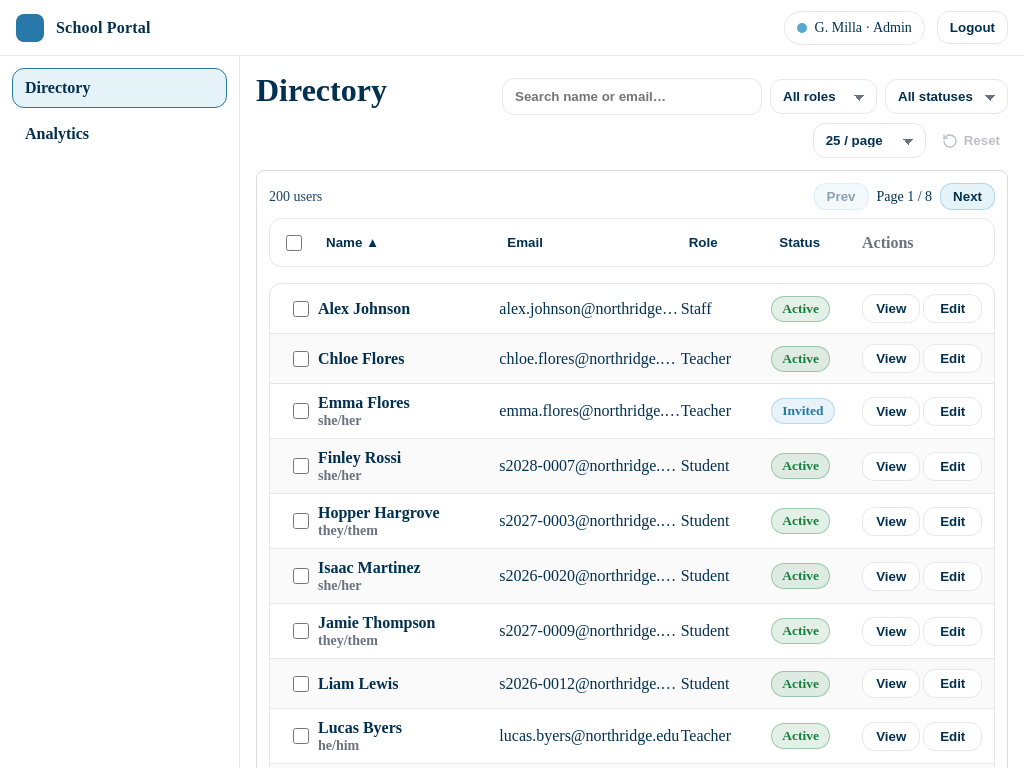
Test: Directory: admin view and edit › navigates directory → user details → edit and saves
Expected: the heading "Directory" is shown, [256,72,387,109]
Step 1. Click the button "View" in the row of "Alex Johnson" → coordinates (892, 309), box [862,294,921,323]
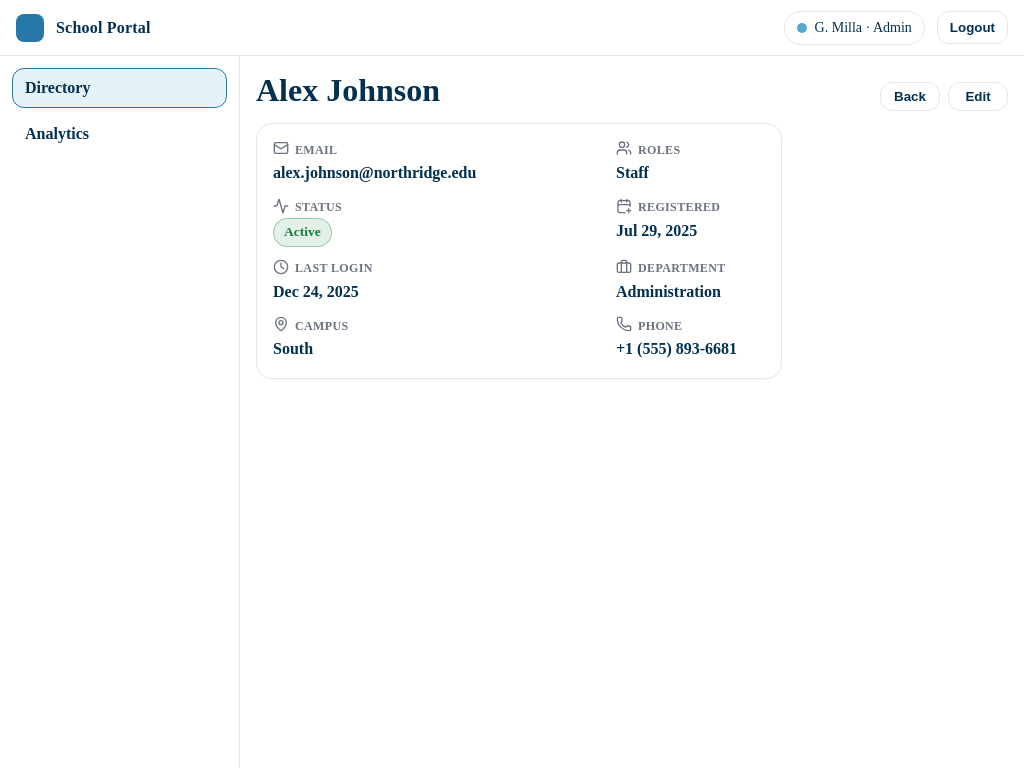
Step 2. Click the button "Edit" → coordinates (978, 97), box [948,82,1008,111]
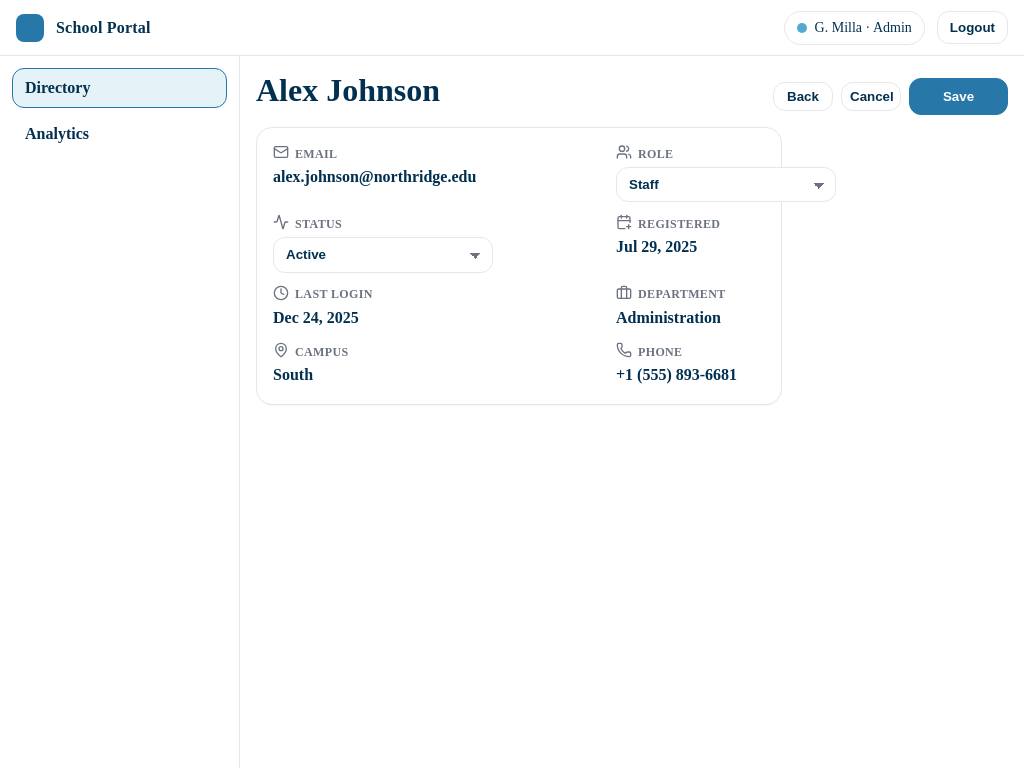
Step 3. Select "Teacher" in the dropdown named "Role" → coordinates (726, 185), box [616,167,836,202]
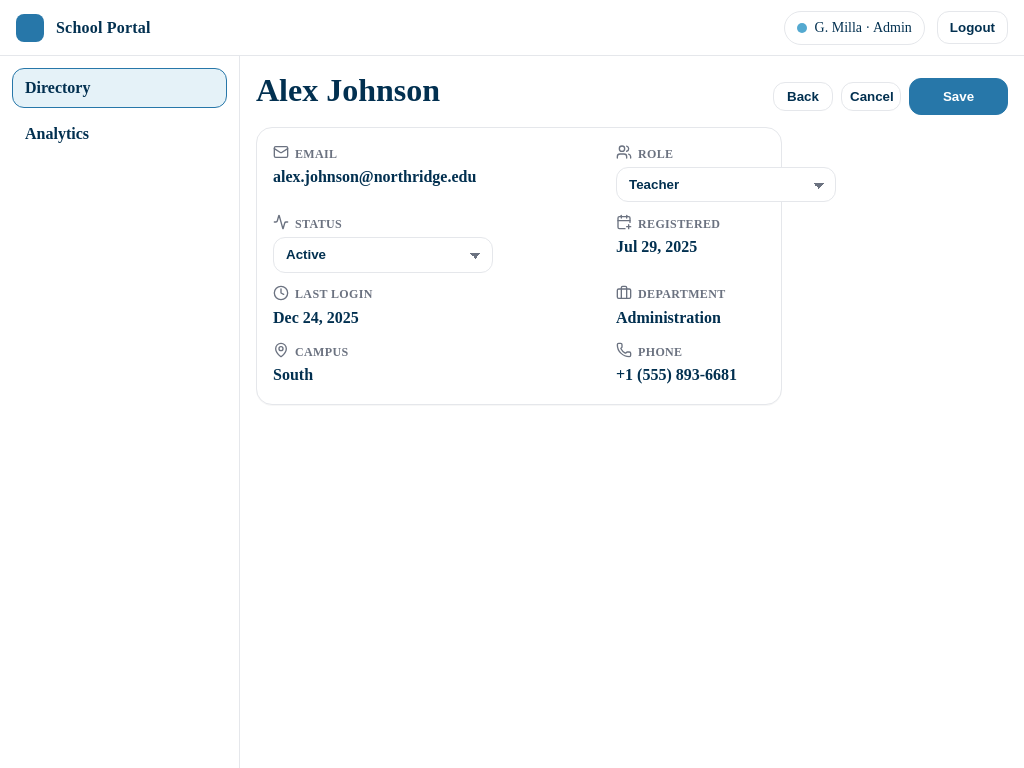
Step 4. Select "Suspended" in the dropdown named "Status" → coordinates (383, 255), box [273,237,493,272]
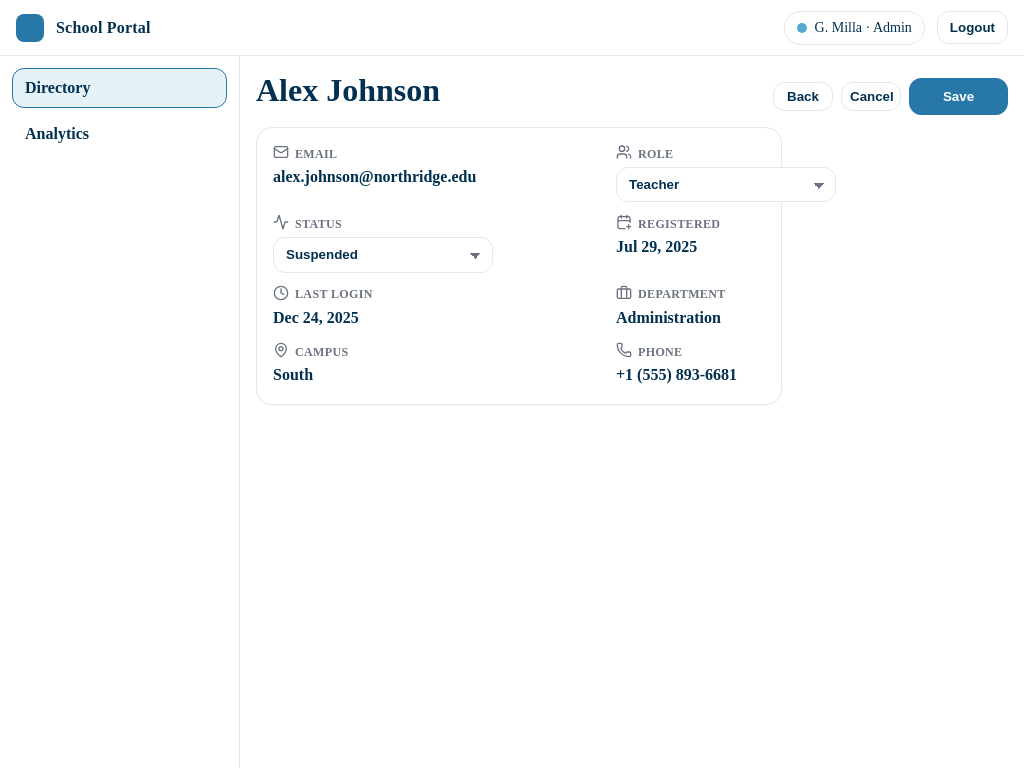
Step 5. Click the button "Save" → coordinates (959, 97), box [909,78,1008,115]
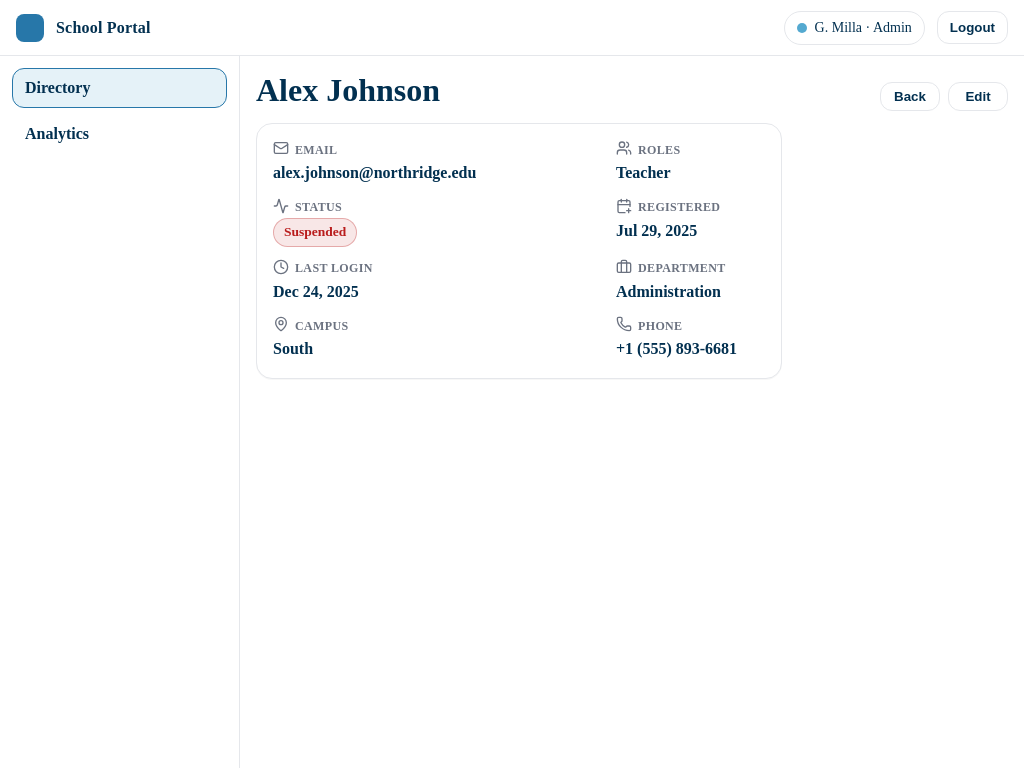
Now the text "Suspended" is shown, box [273,218,357,247]
